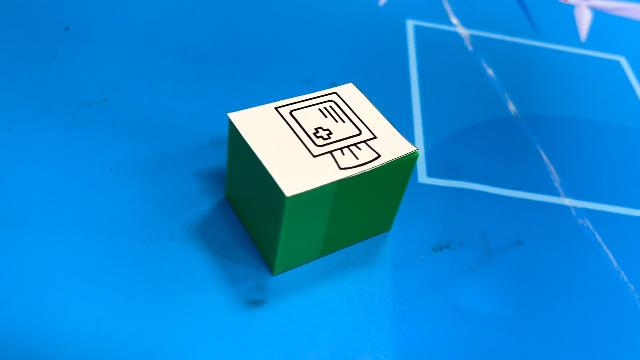napkin: (223, 80, 421, 276)
